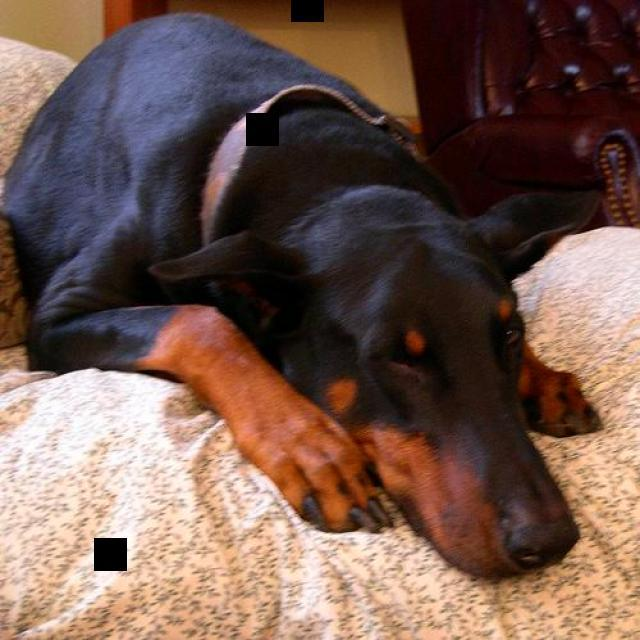adult_dog: (2, 13, 609, 584)
